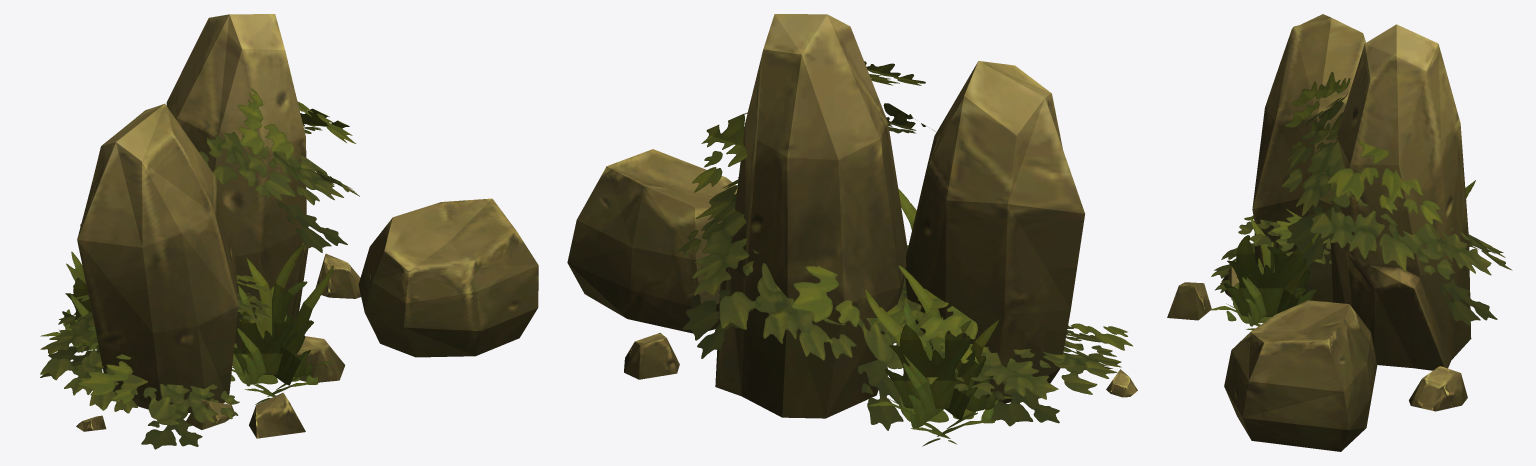
Rendered from esthgraveyard_rocks_02.fbx.
3 views of the same model, side by side, from view 1: azimuth 30°, elevation 25°; view 2: azimuth 150°, elevation 25°; view 3: azimuth 270°, elevation 25° (orthographic). The views are drawn at different scales.
Parts seen in each view (by area): view 1: obj2.012; view 2: obj2.012; view 3: obj2.012.
Part boxes in pixels (bbox=[...]): obj2.012: bbox=[40, 14, 538, 449]; obj2.012: bbox=[567, 14, 1137, 446]; obj2.012: bbox=[1167, 14, 1512, 451].
Bounding box in the file's own units: 3.65 × 2.49 × 2.45.
